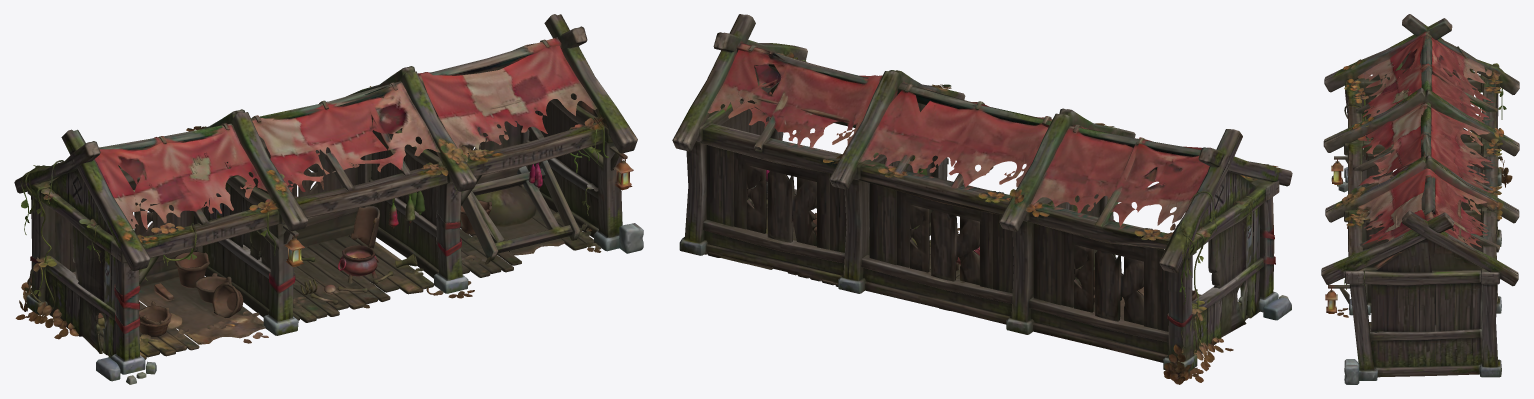
File: market_ruin.glb
3 renders of one model, left to right at view 1: azimuth 30°, elevation 25°; view 2: azimuth 150°, elevation 25°; view 3: azimuth 270°, elevation 25°, orthographic. The views are drawn at different scales.
Visible parts, largest first — view 1: market_ruin_0; view 2: market_ruin_0; view 3: market_ruin_0.
Boxes of the visible parts, bbox=[...] form: market_ruin_0: bbox=[14, 14, 643, 384]; market_ruin_0: bbox=[672, 14, 1292, 384]; market_ruin_0: bbox=[1321, 14, 1519, 384].
Bounding box in the file's own units: 0.9995 × 0.3745 × 0.394.
1 material, 1 textured.
